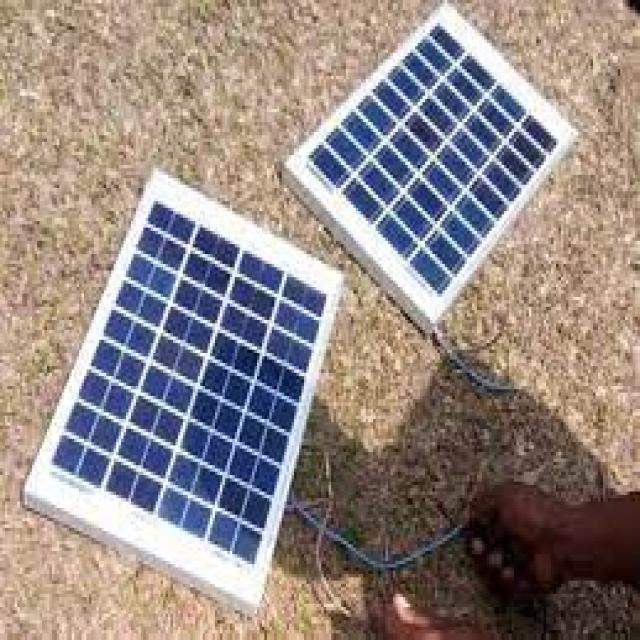no faulty: (49, 195, 332, 567), (298, 20, 557, 300)
